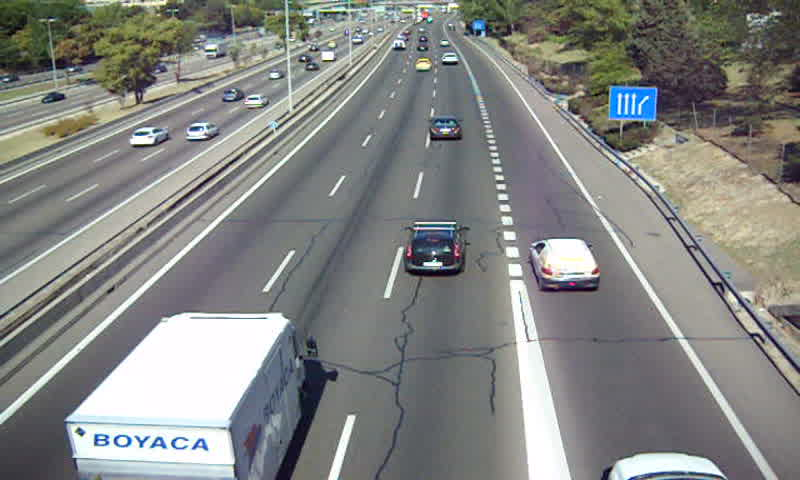car: (530, 238, 600, 291), (402, 221, 468, 273), (427, 116, 462, 139), (414, 58, 432, 74), (440, 51, 459, 65)
small-truck: (63, 311, 302, 480)
